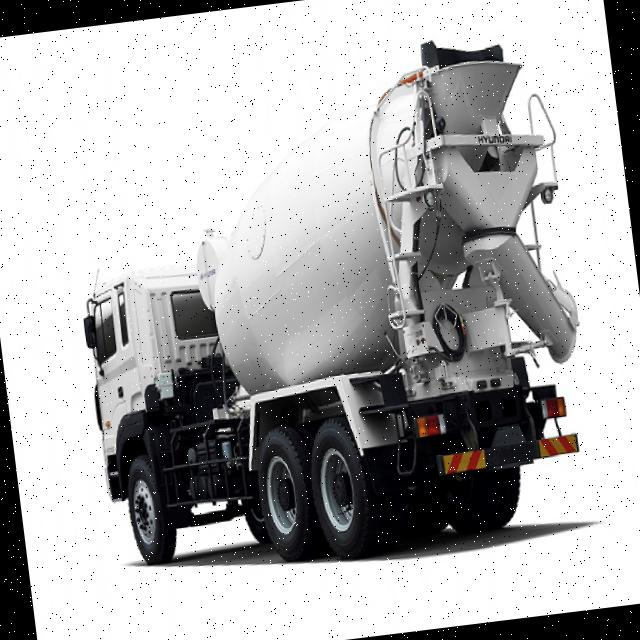Mixer Truck: (54, 27, 604, 590)
